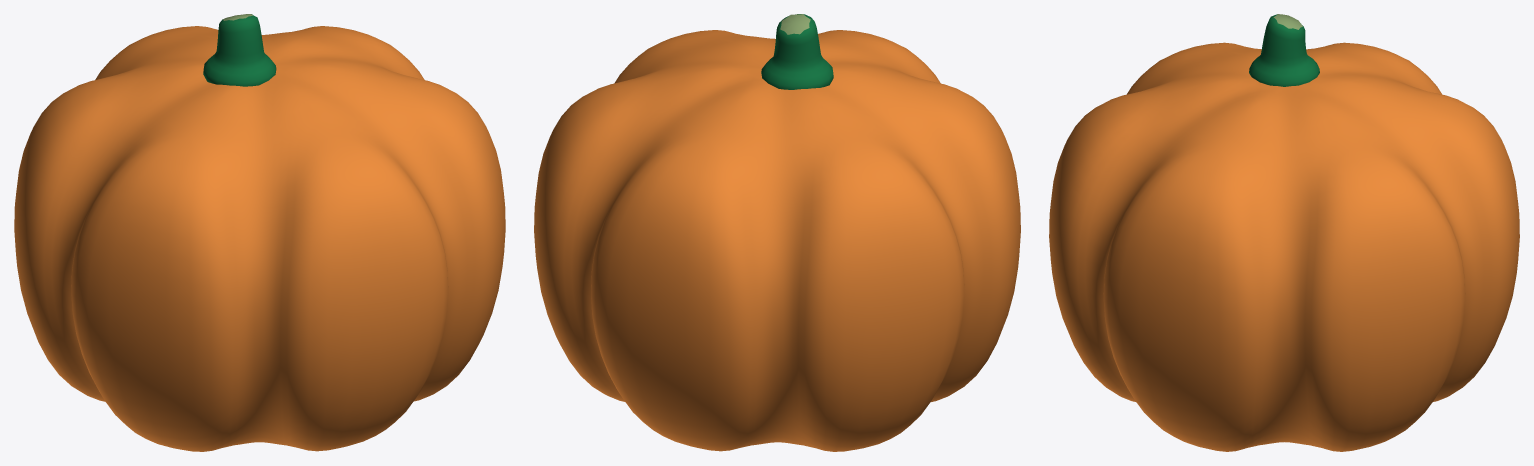
Rendered from pumkin_01.fbx.
3 views of the same model, side by side, from view 1: azimuth 30°, elevation 25°; view 2: azimuth 150°, elevation 25°; view 3: azimuth 270°, elevation 25° (orthographic). The views are drawn at different scales.
Visible parts, largest first — view 1: Sphere; view 2: Sphere; view 3: Sphere.
Part boxes in pixels (x1=…): Sphere: x1=14, y1=14, x2=505, y2=451; Sphere: x1=534, y1=14, x2=1020, y2=451; Sphere: x1=1049, y1=14, x2=1519, y2=451.
Bounding box in the file's own units: 145 × 132 × 147.
